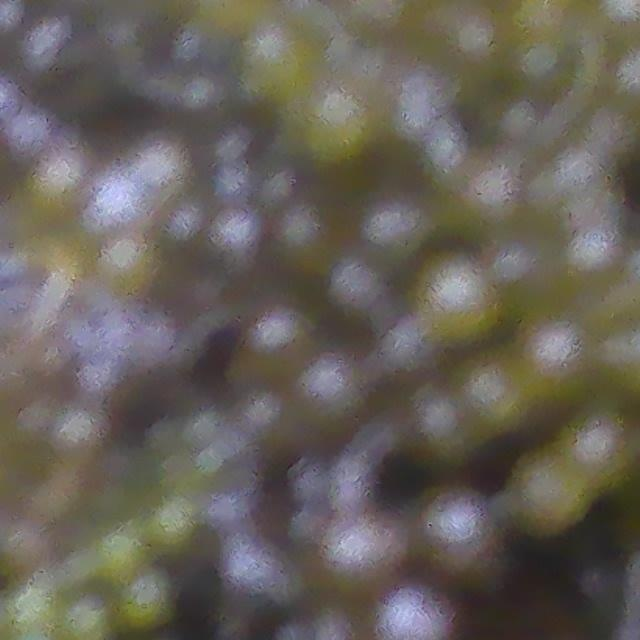SeaGrape: (295, 360, 358, 427), (376, 584, 450, 640), (430, 495, 490, 563), (325, 525, 393, 585), (523, 441, 574, 520), (586, 414, 635, 487), (258, 298, 304, 349)
